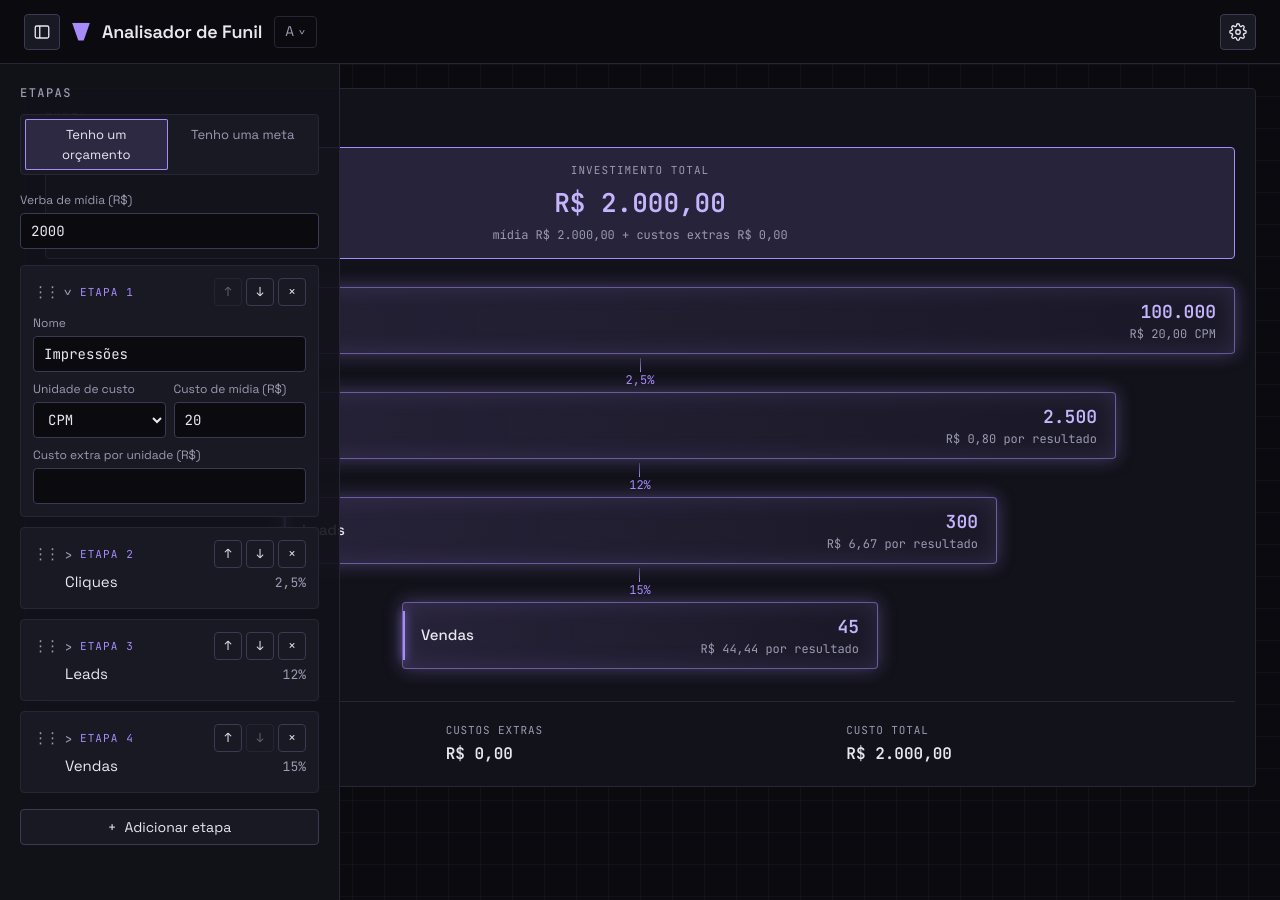
Scenario: entrar no modo meta com a meta vazia › no app: com "Meta em" escolhida e sem meta, o modo meta preenche com o volume dessa etapa
Click the radio button labelled "Tenho uma meta". click: click(243, 134)
box: [191, 126, 294, 143]
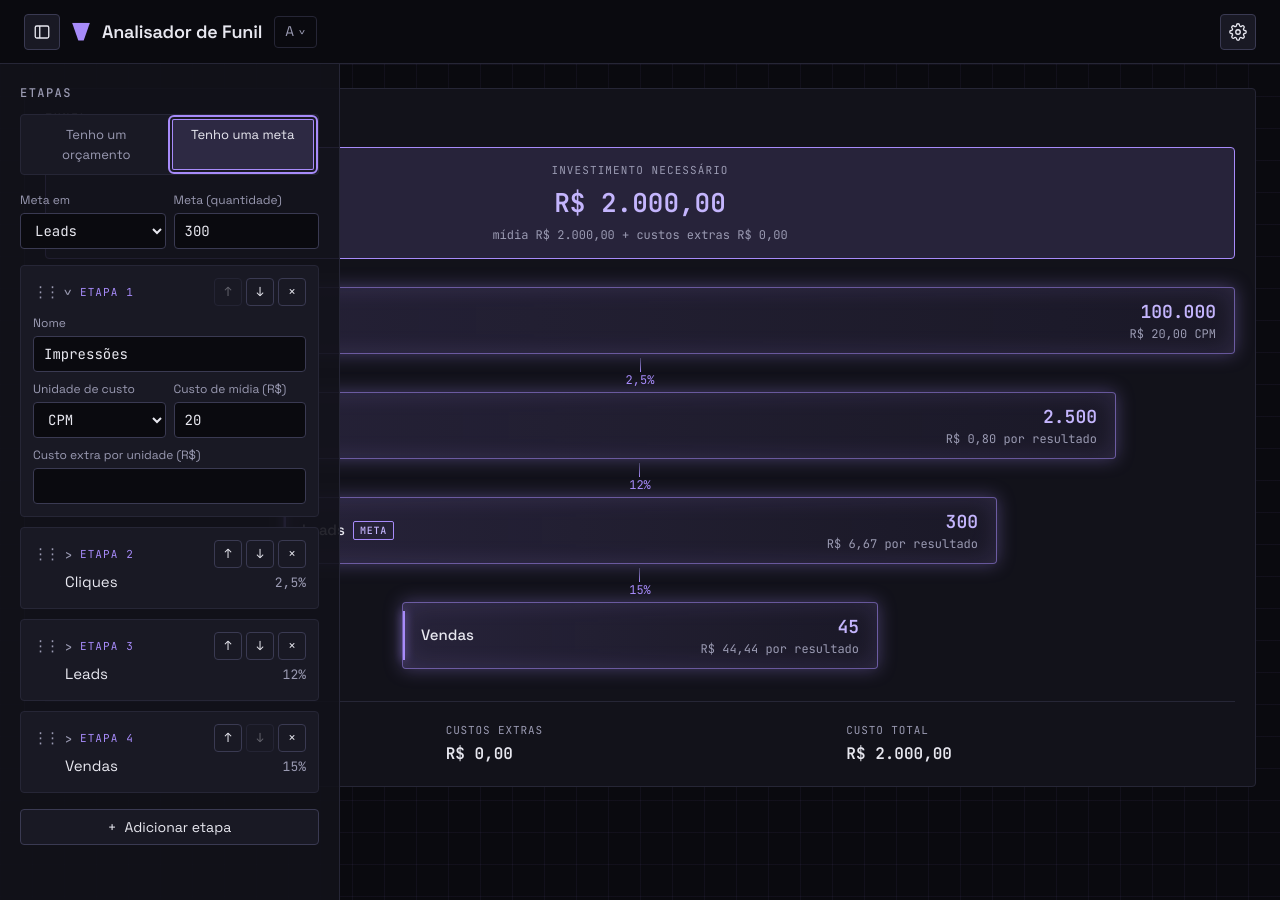
Now the dropdown labelled "Meta em" shows "Leads", box [20, 213, 166, 249]
Now the field labelled "Meta (quantidade)" holds "300", box [174, 213, 319, 249]
